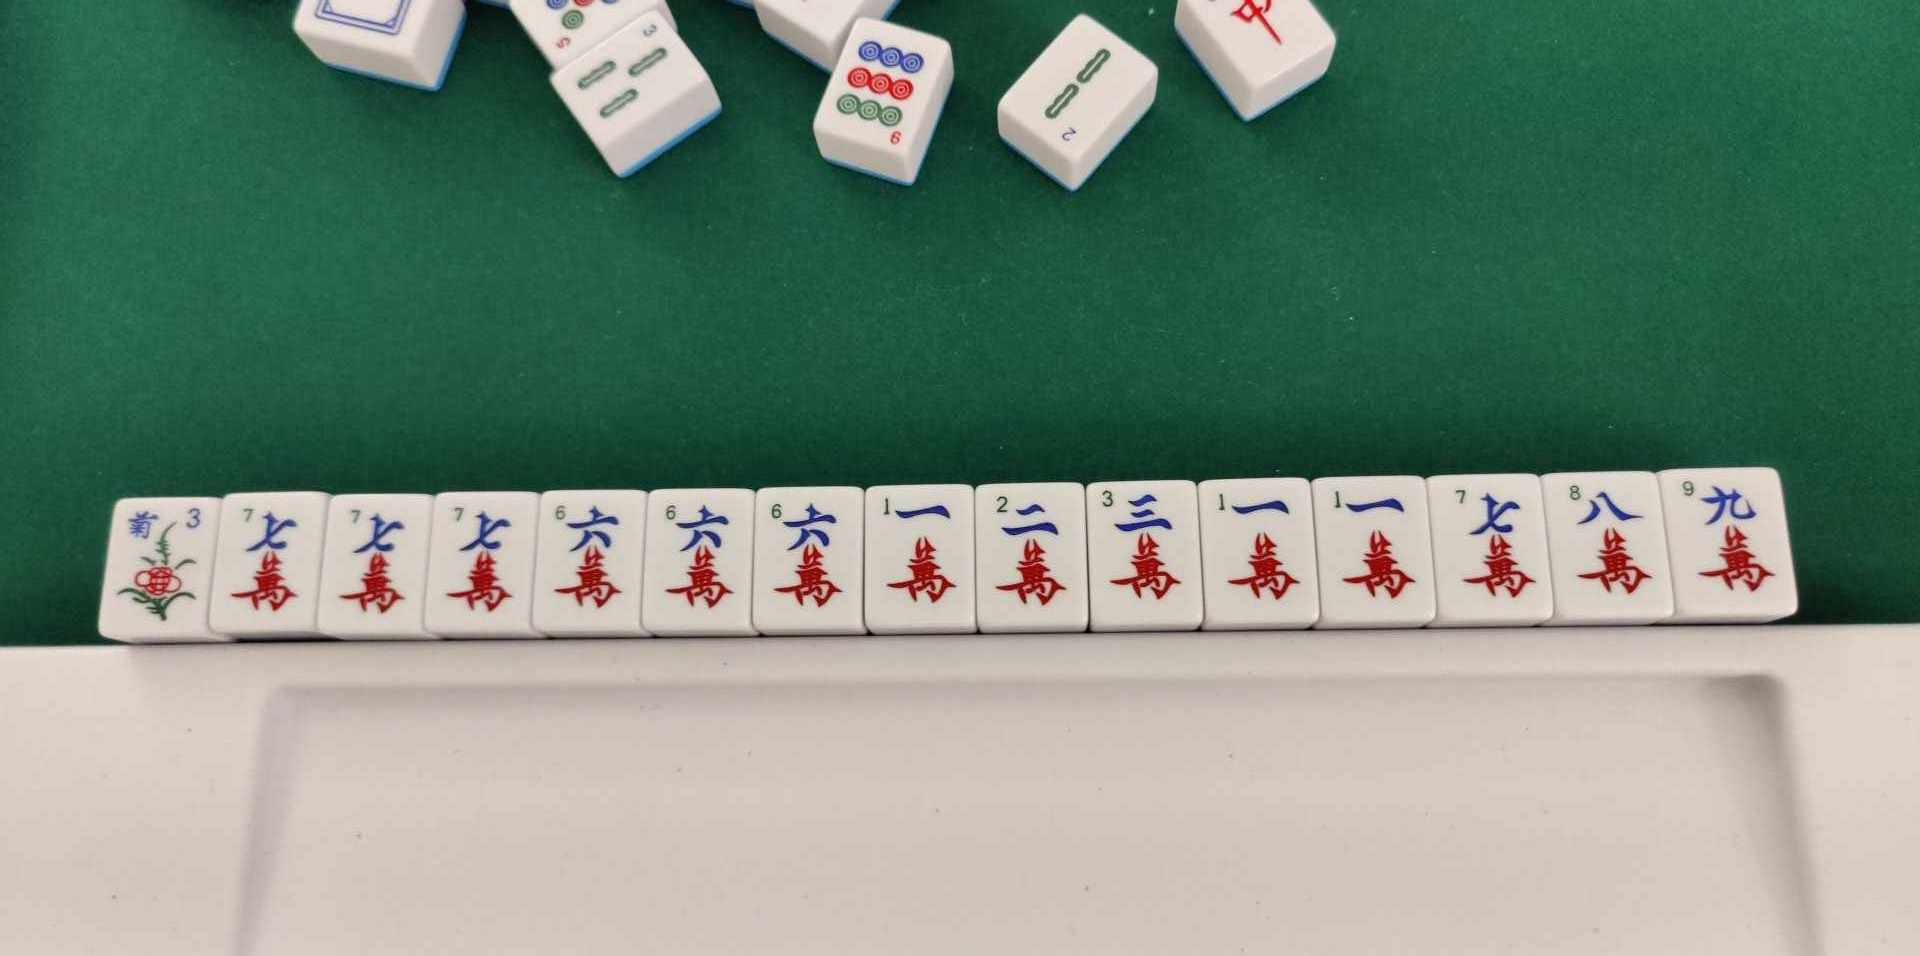character-eight: (1558, 476, 1654, 614)
character-nine: (1680, 474, 1778, 610)
character-one: (1204, 484, 1313, 616), (1325, 481, 1424, 616), (872, 490, 970, 614)
character-seven: (1440, 479, 1539, 619), (435, 496, 522, 622), (334, 499, 416, 628), (227, 497, 302, 621)
character-six: (762, 495, 852, 621), (546, 496, 631, 621), (653, 499, 741, 617)
character-three: (1093, 487, 1190, 619)
character-two: (982, 488, 1085, 618)
flower-blue_three: (118, 502, 201, 626)
